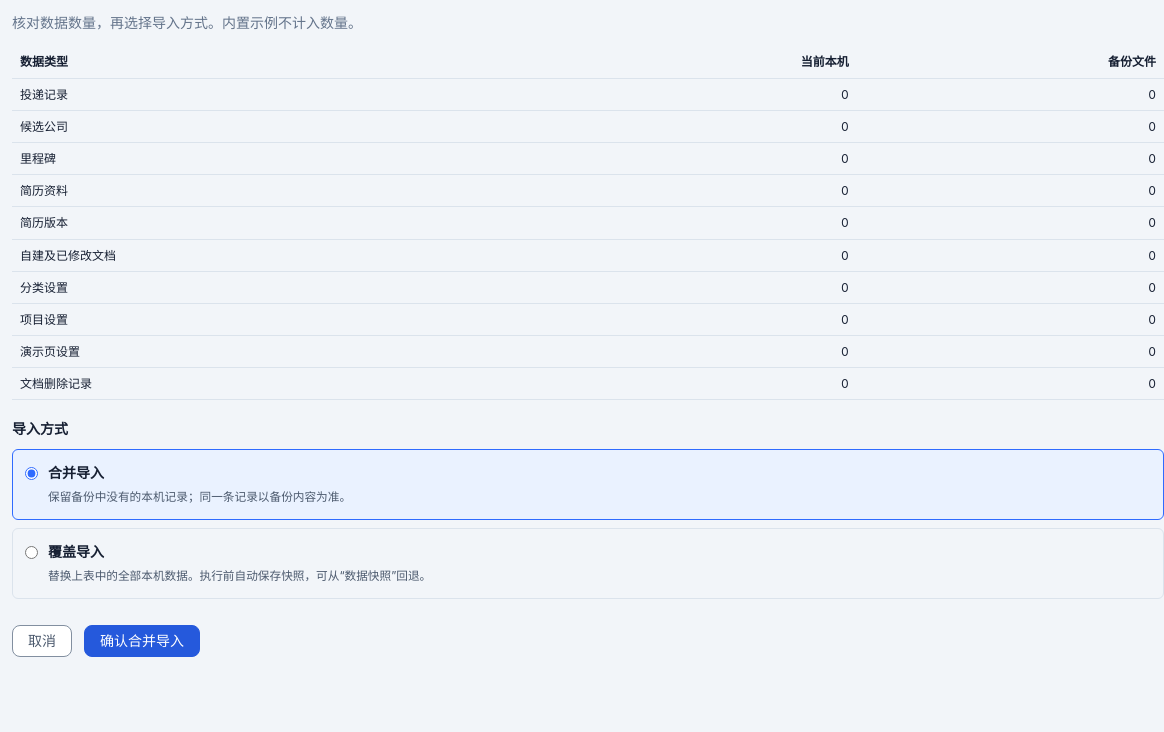
Test: ImportDialog › 覆盖必须确认，切换方式后必须重新确认
Click the radio button labelled "覆盖导入 替换上表中的全部本机数据。执行前自动保存快照，可从“数据快照”回退。".
click(32, 552)  # box [25, 546, 38, 559]
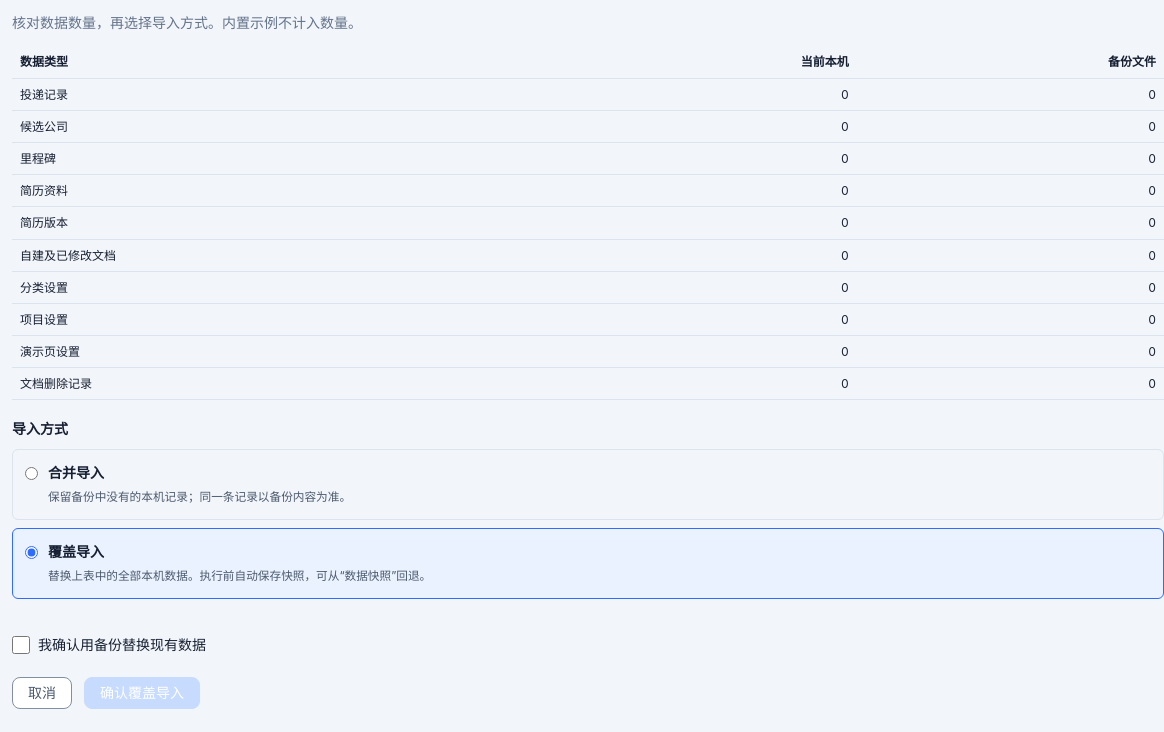
Check: the button "确认覆盖导入" is disabled, box [84, 677, 200, 709]
Click the checkbox labelled "我确认用备份替换现有数据".
click(21, 645)  # box [12, 636, 30, 654]
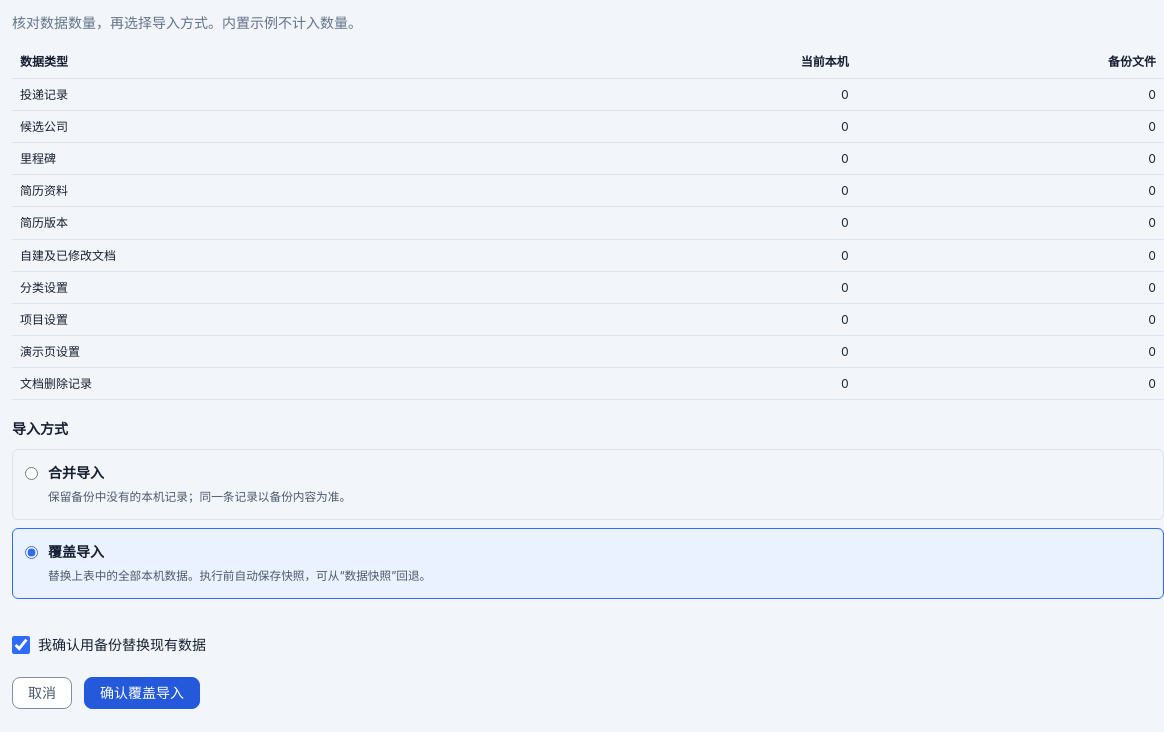
Check: the button "确认覆盖导入" is enabled, box [84, 677, 200, 709]
Click the radio button labelled "合并导入 保留备份中没有的本机记录；同一条记录以备份内容为准。".
click(32, 473)  # box [25, 467, 38, 480]
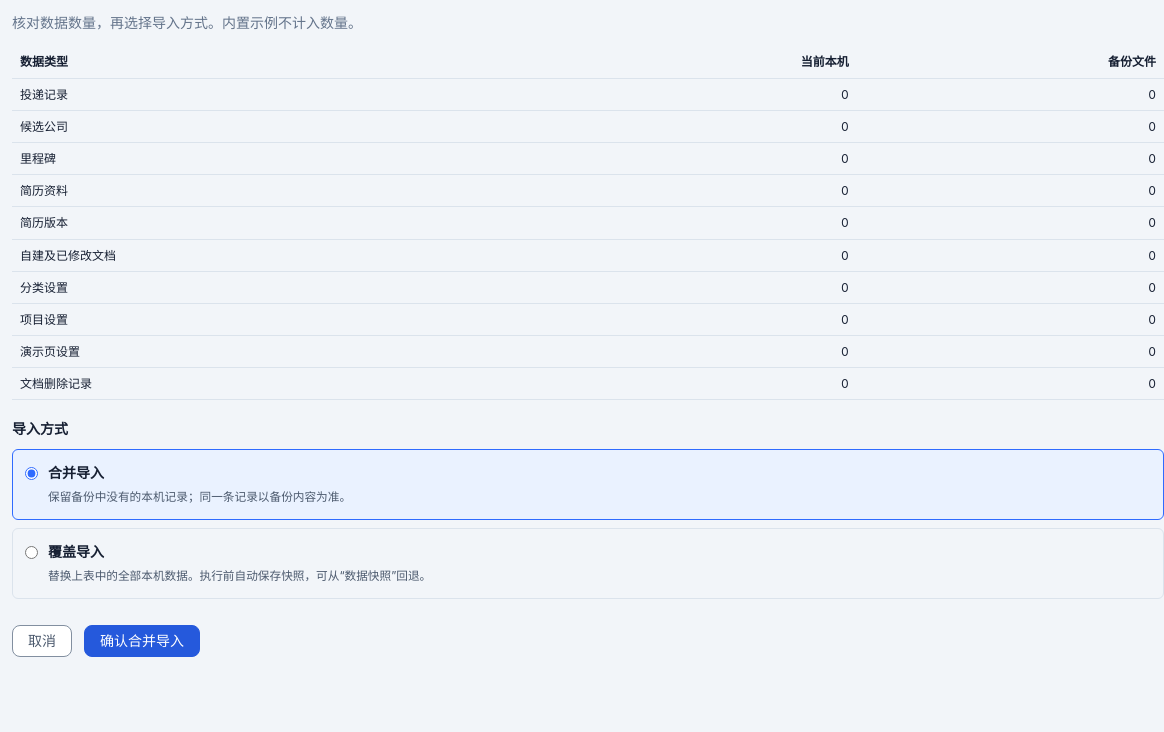
Click the radio button labelled "覆盖导入 替换上表中的全部本机数据。执行前自动保存快照，可从“数据快照”回退。".
click(32, 552)  # box [25, 546, 38, 559]
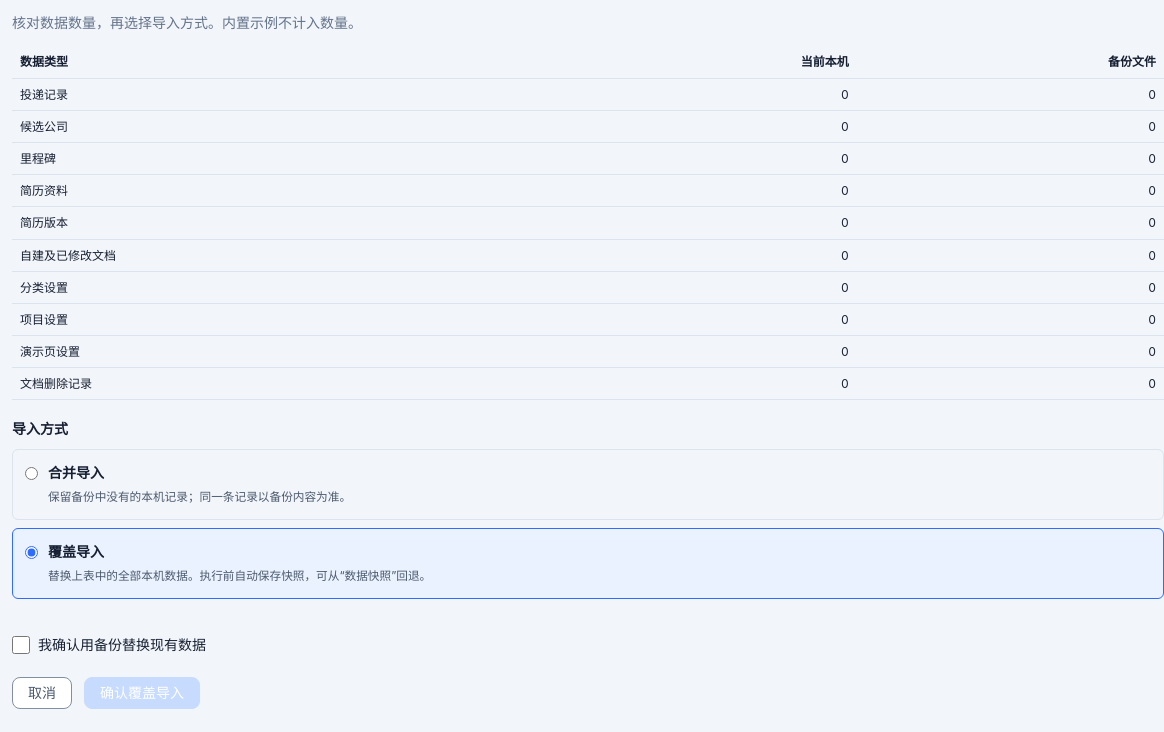
Check: the button "确认覆盖导入" is disabled, box [84, 677, 200, 709]
